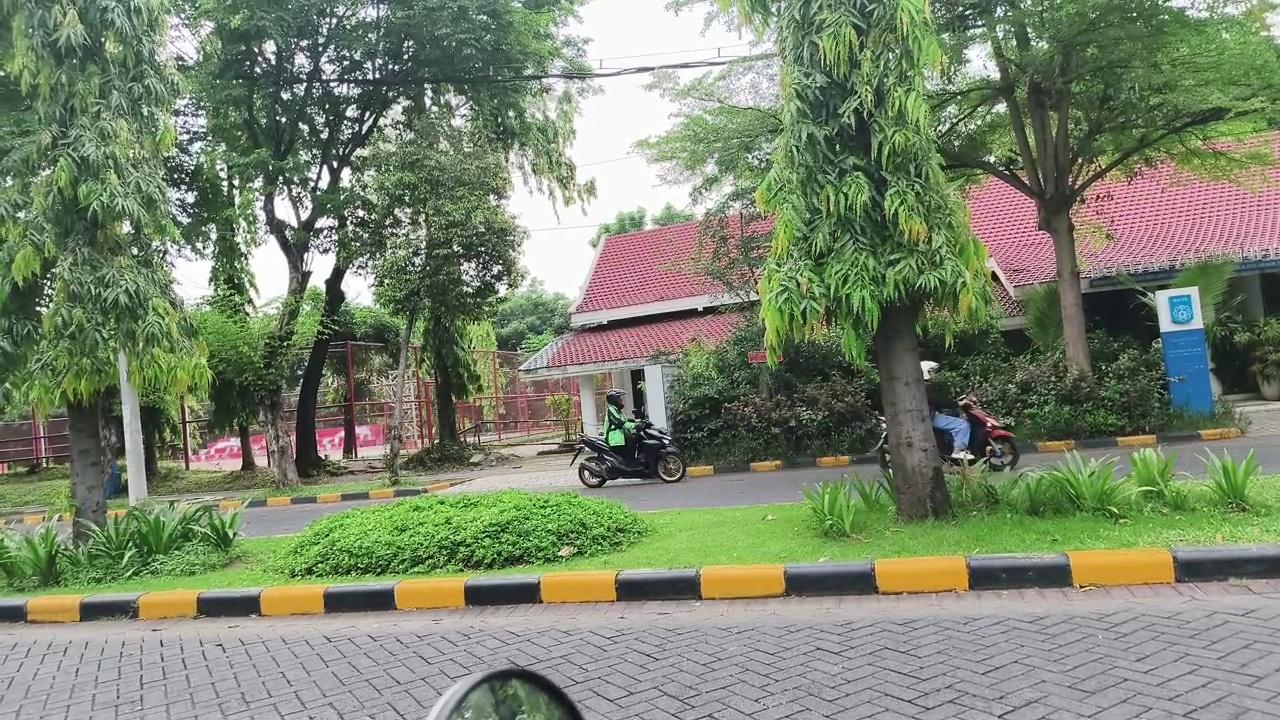Helmet: (920, 361, 972, 459), (605, 389, 636, 462)
Motor: (570, 412, 686, 488), (935, 396, 1019, 470)
